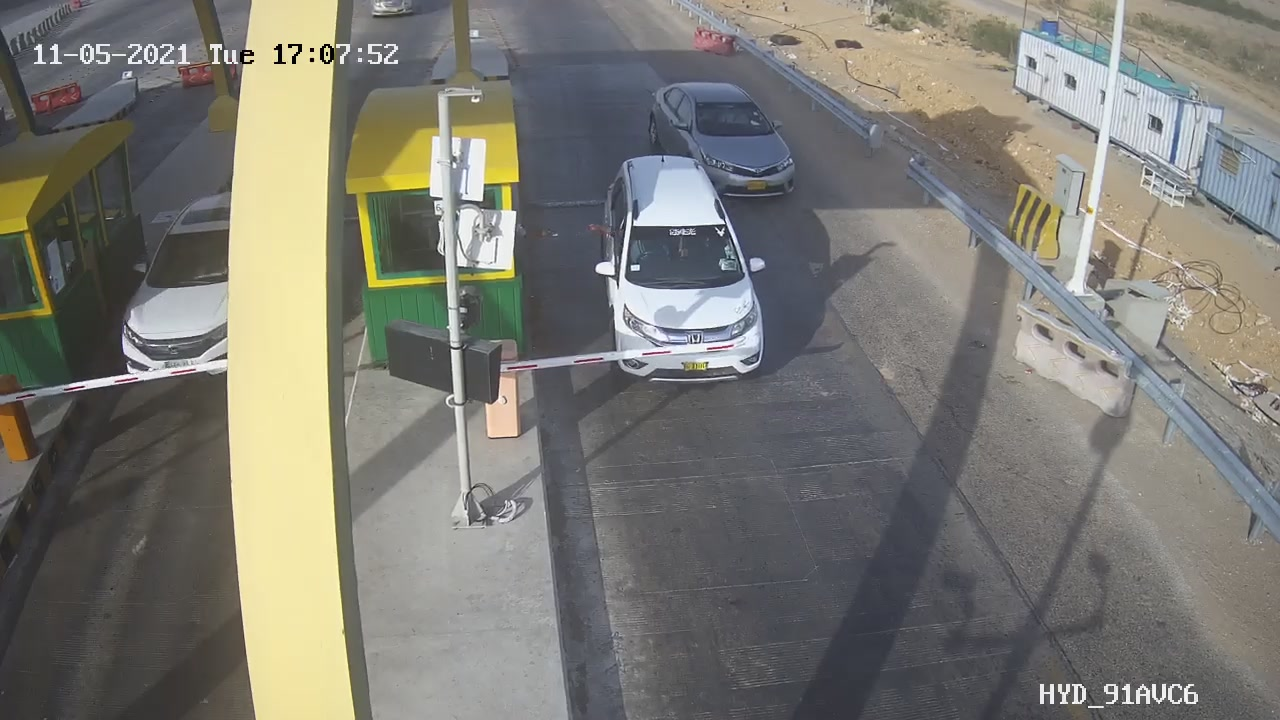F1: (578, 135, 787, 396), (633, 69, 817, 211)
